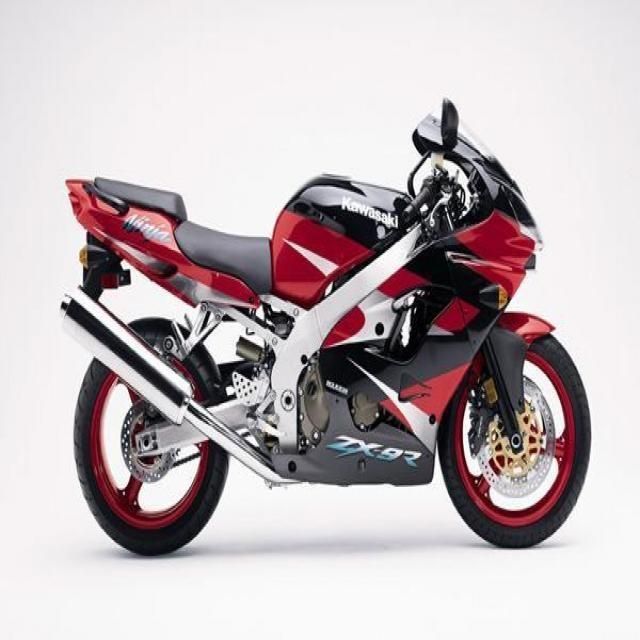Motorcycle: (59, 125, 598, 552)
